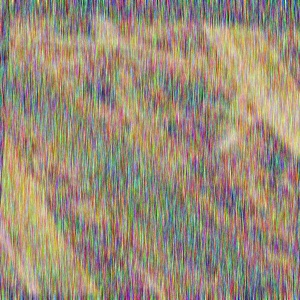Leaf_Blast: (30, 73, 107, 169), (0, 203, 60, 300)
